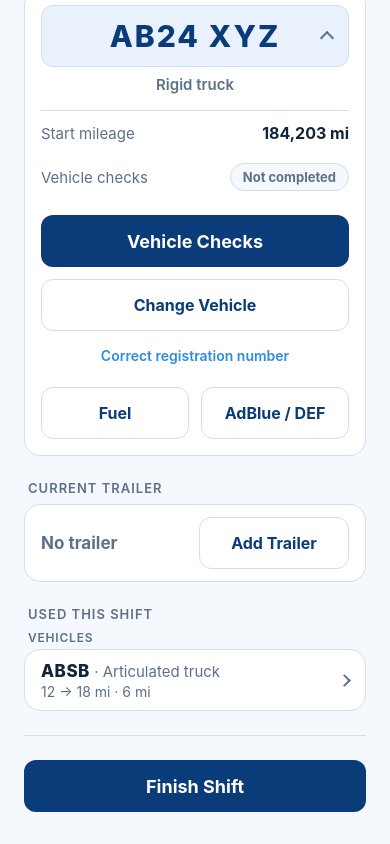
pressing a USED THIS SHIFT row FOLDS the open card, and still opens exactly that use
This screenshot has width=390, height=844.
(page scrolled)
Click the button "ABSB · Articulated truck 12 → 18 mi · 6 mi" at x=195, y=680, box x1=25 y1=650 x2=365 y2=710
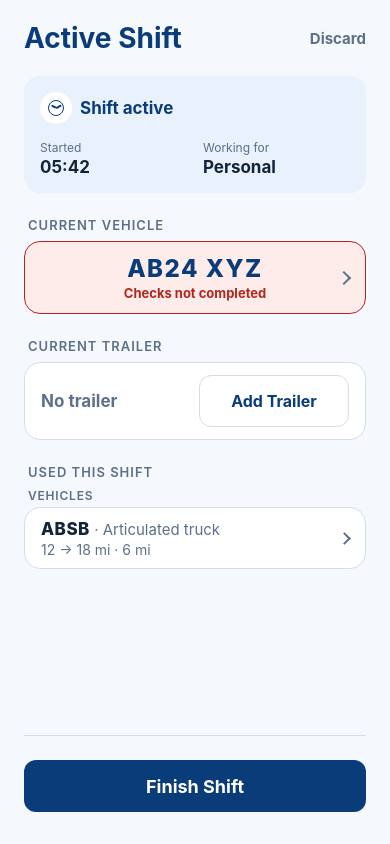
Result: the text with test id "vehicle-class-value" is gone
Result: the text with test id "vehicle-mileage-value" is gone
Result: the text with test id "vehicle-checks-state" is gone
